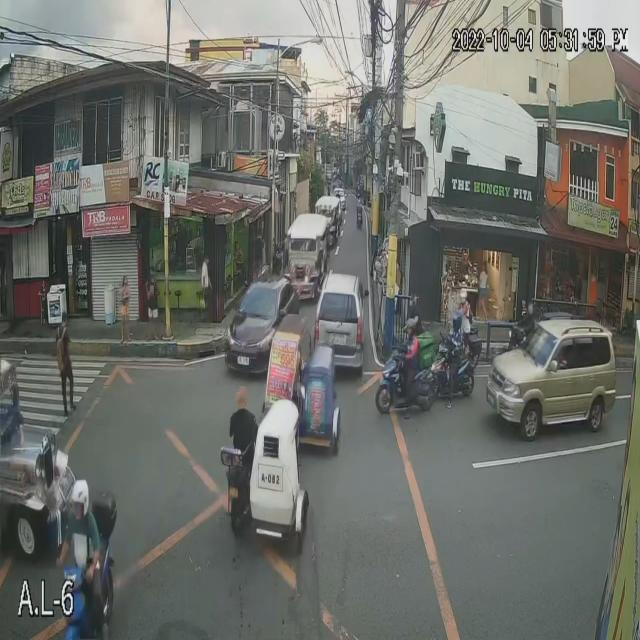half: (72, 476, 90, 522), (405, 317, 417, 343), (452, 314, 462, 332)
